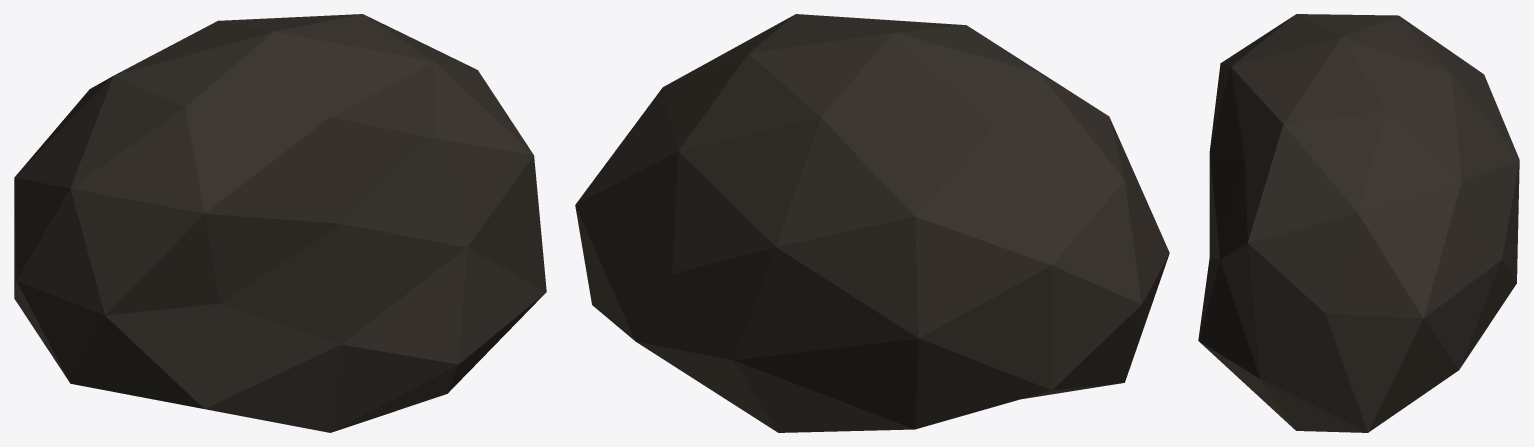
The model's file is rockbig.fbx.
3 views of the same model, side by side, from view 1: azimuth 30°, elevation 25°; view 2: azimuth 150°, elevation 25°; view 3: azimuth 270°, elevation 25° (orthographic). The views are drawn at different scales.
Visible parts, largest first — view 1: Icosphere.007; view 2: Icosphere.007; view 3: Icosphere.007.
Boxes of the visible parts, left/top/right/bottom form: Icosphere.007: left=14, top=14, right=546, bottom=432; Icosphere.007: left=575, top=14, right=1169, bottom=432; Icosphere.007: left=1198, top=14, right=1519, bottom=432.
Bounding box in the file's own units: 82.91 × 50.45 × 57.31.
